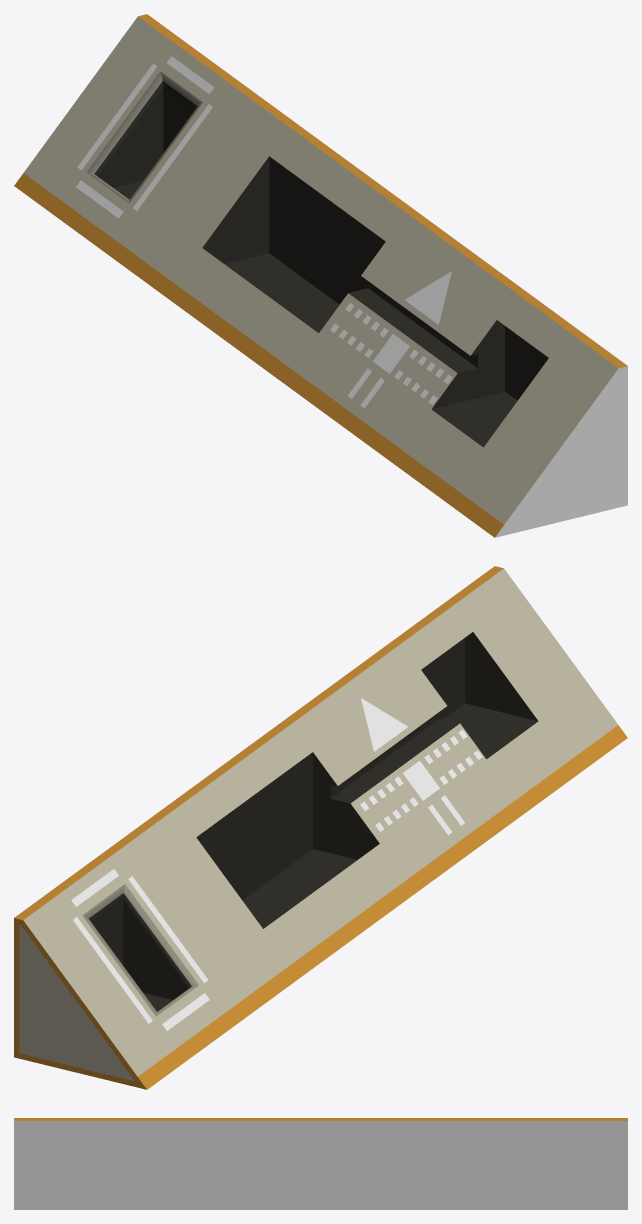
File: Lifesupportunit.glb
3 views of the same model, one above another, from view 1: azimuth 30°, elevation 25°; view 2: azimuth 150°, elevation 25°; view 3: azimuth 270°, elevation 25° (orthographic). The views are drawn at different scales.
Visible parts, largest first — view 1: Unit-col, Light24, Light11, LightCom-3, LightCom-1; view 2: Unit-col, Light24, Light11, LightCom-1, LightCom-3; view 3: Unit-col.
Part boxes in pixels (bbox=[...]): Unit-col: bbox=[14, 14, 627, 537]; Light24: bbox=[405, 271, 451, 324]; Light11: bbox=[373, 334, 409, 373]; LightCom-3: bbox=[77, 63, 157, 170]; LightCom-1: bbox=[133, 104, 212, 210]; Unit-col: bbox=[14, 566, 627, 1089]; Light24: bbox=[361, 698, 407, 751]; Light11: bbox=[403, 761, 439, 800]; LightCom-1: bbox=[128, 876, 208, 982]; LightCom-3: bbox=[73, 917, 152, 1023]; Unit-col: bbox=[14, 1118, 627, 1209].
Size of the model in its own units: 2 by 2 by 12.5.
